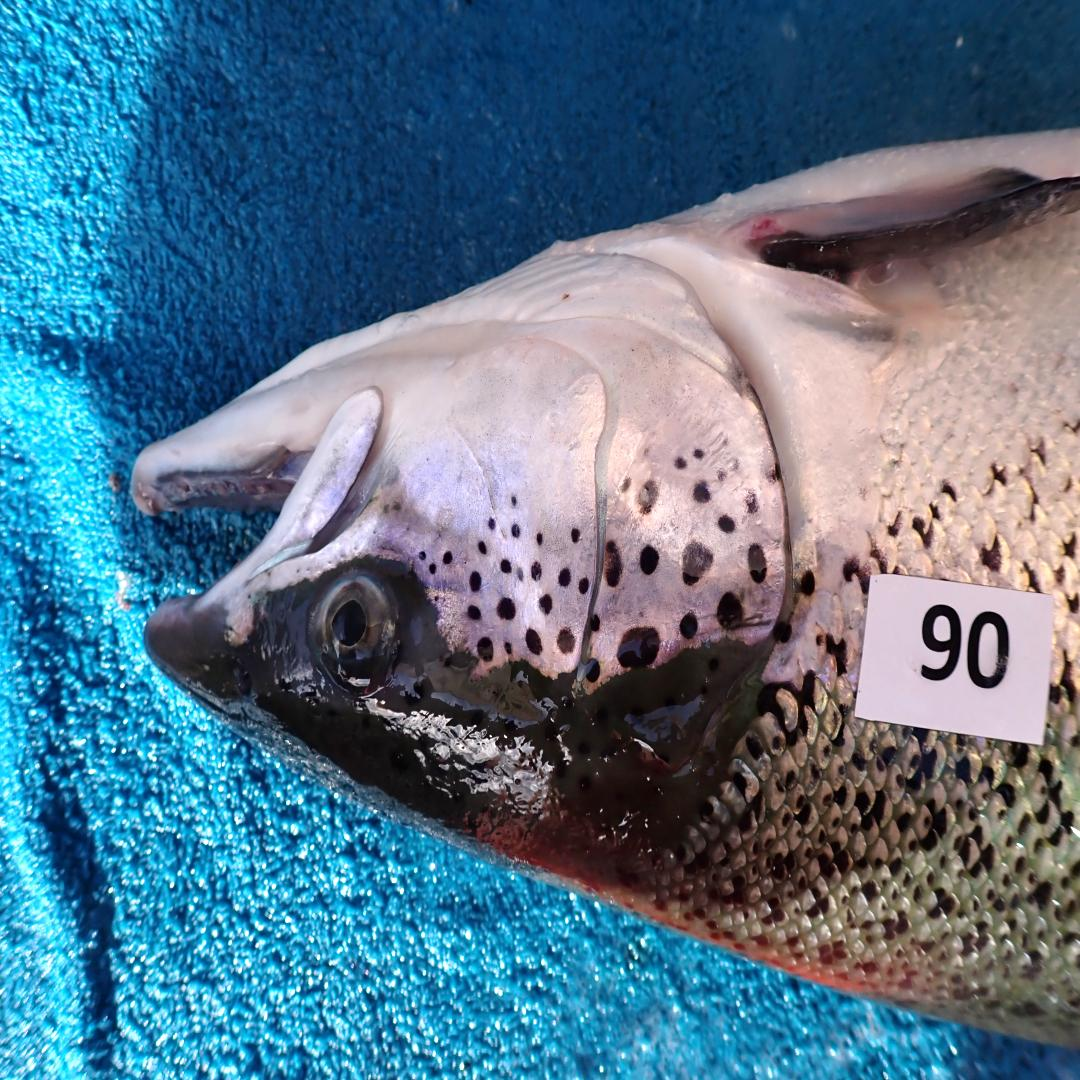roi: (383, 246, 791, 695)
